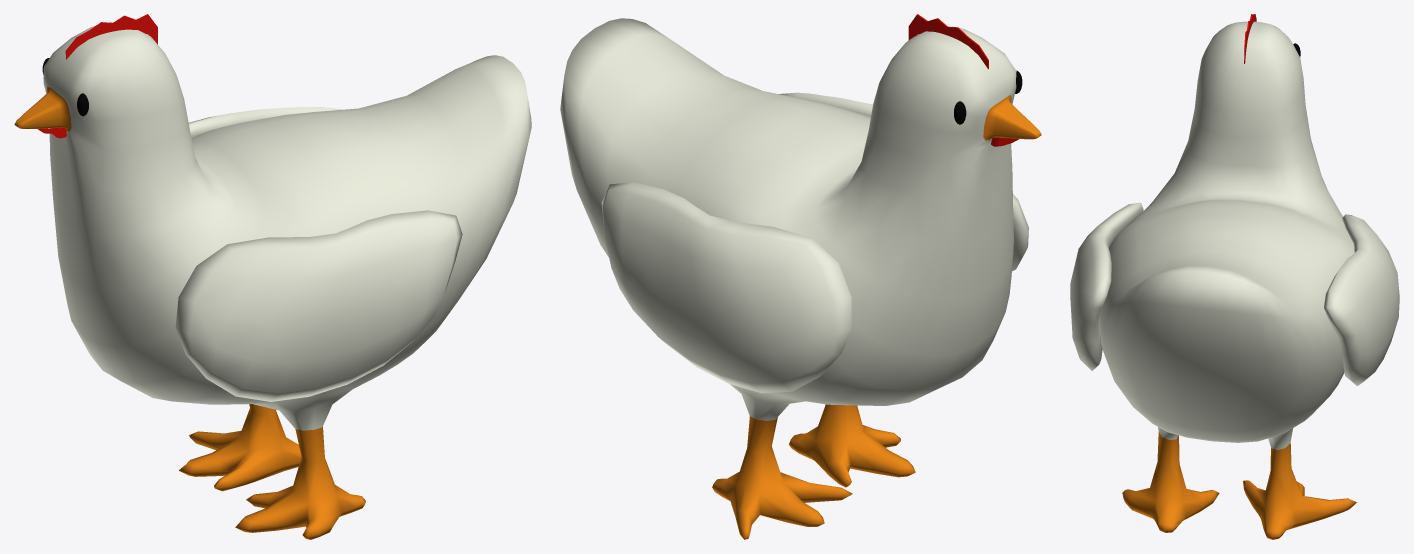
Rendered from Chicken5.fbx.
3 views of the same model, side by side, from view 1: azimuth 30°, elevation 25°; view 2: azimuth 150°, elevation 25°; view 3: azimuth 270°, elevation 25° (orthographic). The views are drawn at different scales.
Parts seen in each view (by area): view 1: KIP; view 2: KIP; view 3: KIP.
Boxes of the visible parts, <box> form: KIP: <box>14,14,531,539</box>; KIP: <box>560,14,1041,539</box>; KIP: <box>1070,14,1399,539</box>.
Size of the model in its own units: 792 by 808 by 553.
